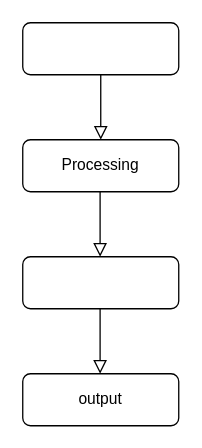
The diagram is 202 pixels wide and 448 high, and some of its shapes have lost their labels. Here are the shapes that lost their labels. From the top down, the centre of each, then its label:
At [100,48]: "Input".
At [100,282]: "Pridiction".
